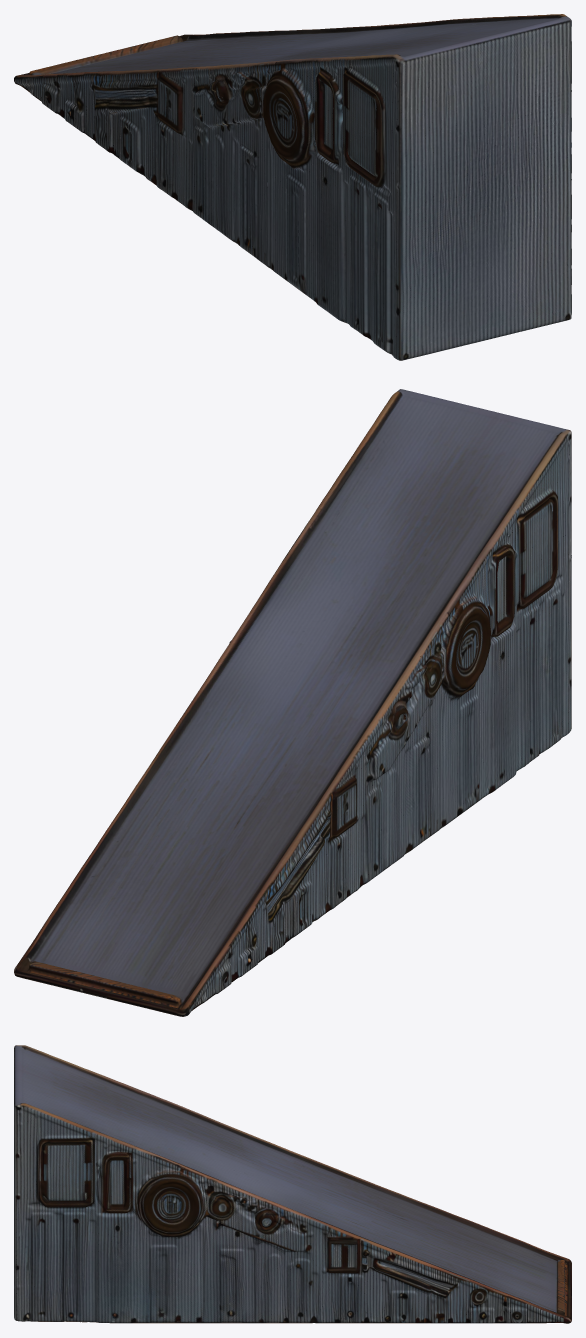
Rendered from rampa.fbx.
The picture shows the model from 3 angles, top to bottom: view 1: azimuth 30°, elevation 25°; view 2: azimuth 150°, elevation 25°; view 3: azimuth 270°, elevation 25°; orthographic projection. The views are drawn at different scales.
Parts seen in each view (by area): view 1: tripo_node_941d5ad0; view 2: tripo_node_941d5ad0; view 3: tripo_node_941d5ad0.
Part boxes in pixels (box(x1,y1,x2,y2)): tripo_node_941d5ad0: box(14, 14, 571, 360); tripo_node_941d5ad0: box(14, 389, 571, 1016); tripo_node_941d5ad0: box(14, 1045, 571, 1323).
Bounding box in the file's own units: 28.32 × 43.56 × 100.
Materials: 1 (1 with a texture image).
